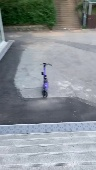beam: (37, 61, 53, 99)
